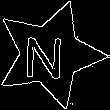N_N: (28, 28, 72, 80)
